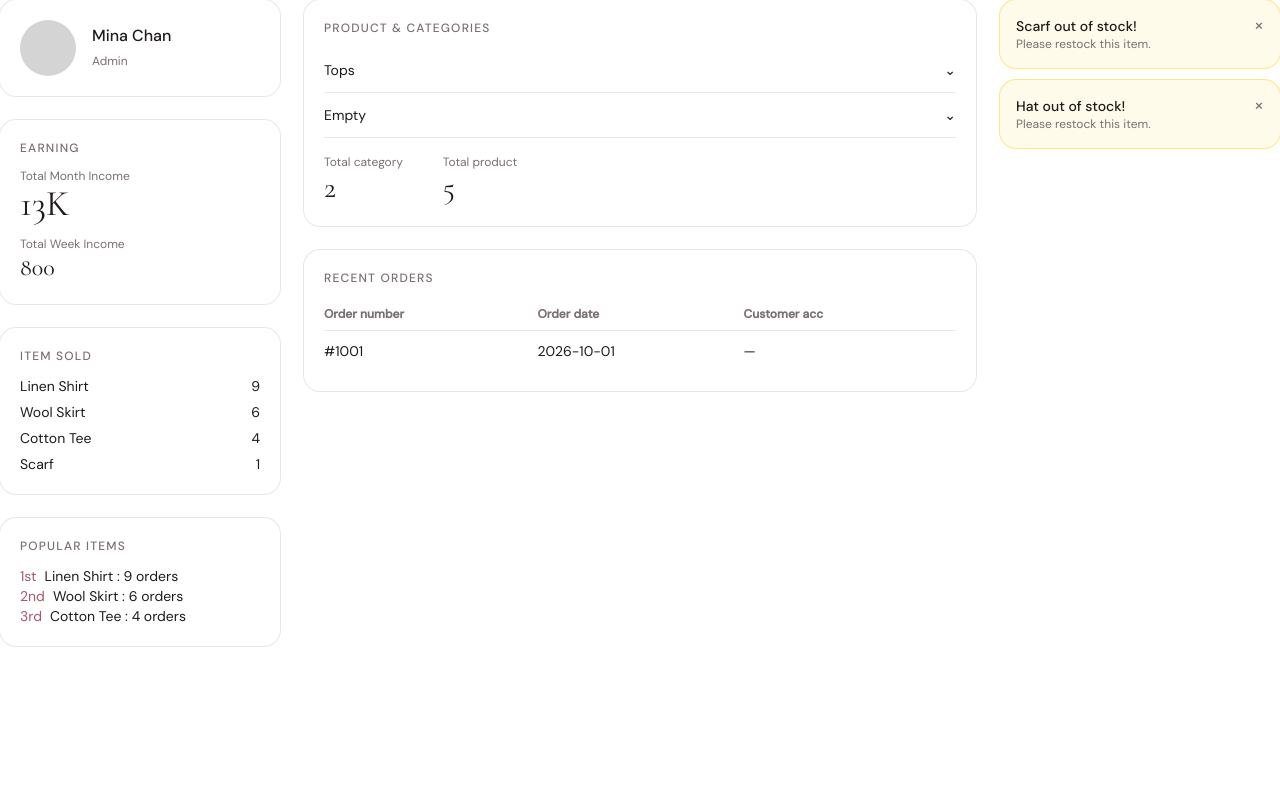
Test: DashboardView › lists out-of-stock alerts and lets the admin dismiss them
The image size is (1280, 800).
Check: the number of messages is 2, box [1000,0,1279,68]; [1000,80,1279,148]
Click the button named "Dismiss Scarf".
click(1259, 25)  # box [1254,16,1264,34]
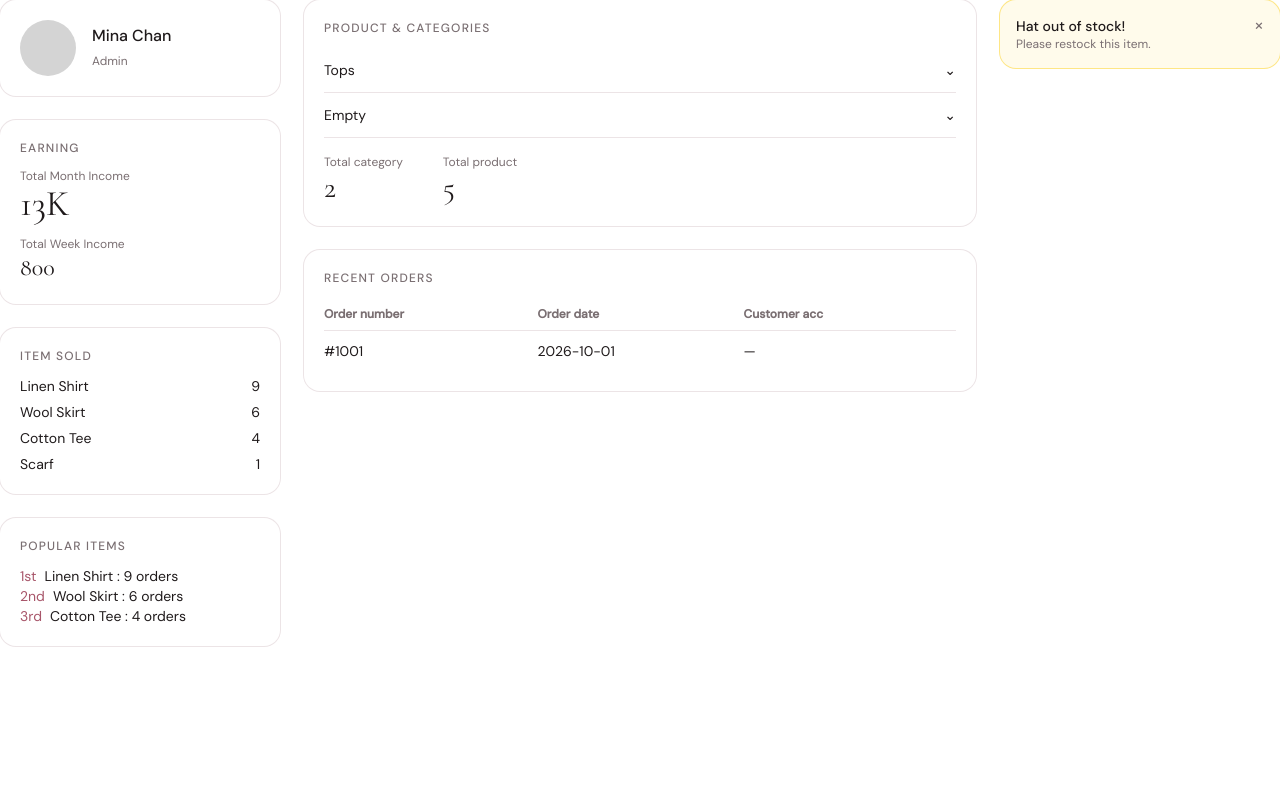
Check: the number of messages is 1, box [1000,0,1279,68]
Check: the text "Scarf out of stock" is gone
